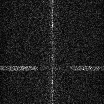wifi: (1, 65, 104, 70)
